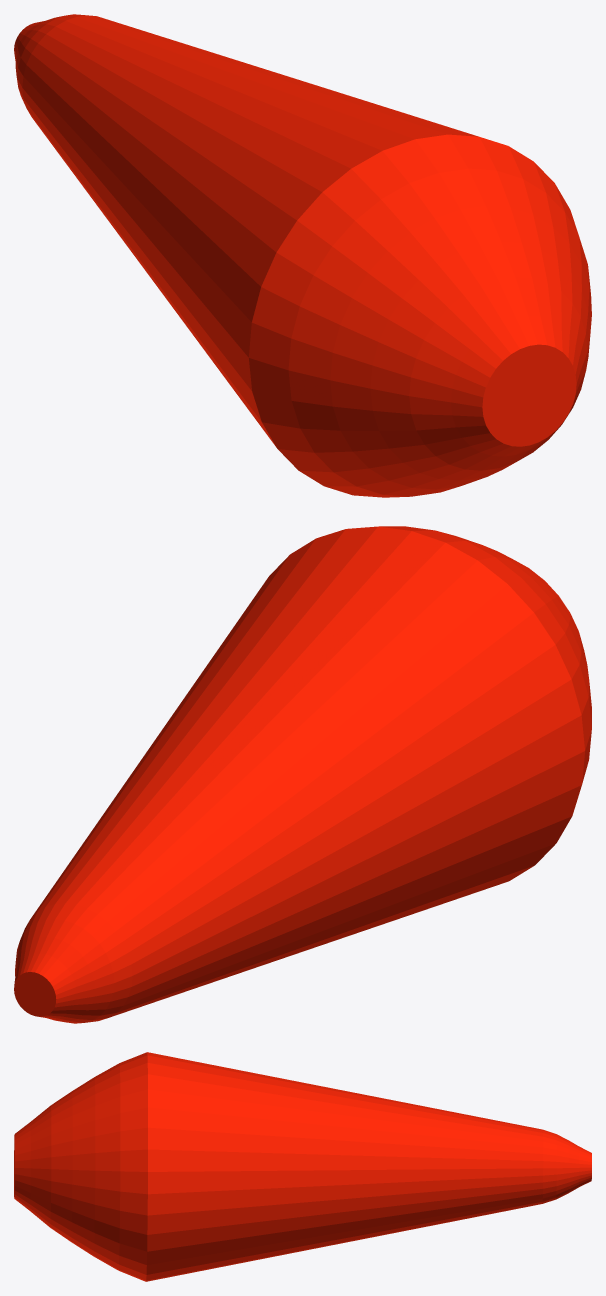
File: bullet.glb
The picture shows the model from 3 angles, top to bottom: view 1: azimuth 30°, elevation 25°; view 2: azimuth 150°, elevation 25°; view 3: azimuth 270°, elevation 25°; orthographic projection. The views are drawn at different scales.
Visible parts, largest first — view 1: Cylinder; view 2: Cylinder; view 3: Cylinder.
Part boxes in pixels (x1,y1,x2,y2): Cylinder: (14,14,591,497); Cylinder: (14,526,591,1023); Cylinder: (14,1052,591,1281).
Bounding box in the file's own units: 0.5059 × 0.5059 × 1.27.
